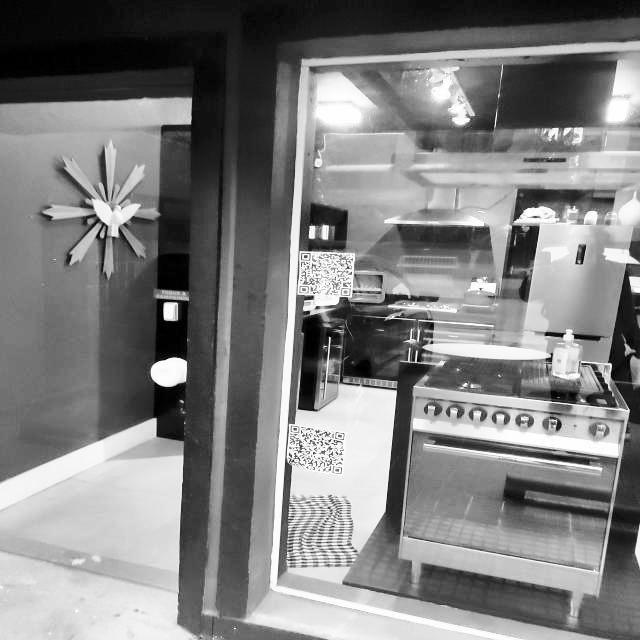qr_code: (288, 426, 345, 475), (299, 253, 354, 296)
